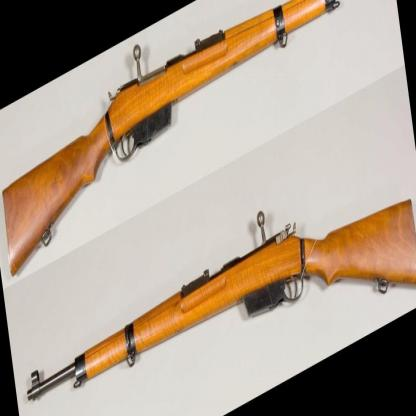rifle: (23, 129, 416, 416), (0, 0, 393, 276)
